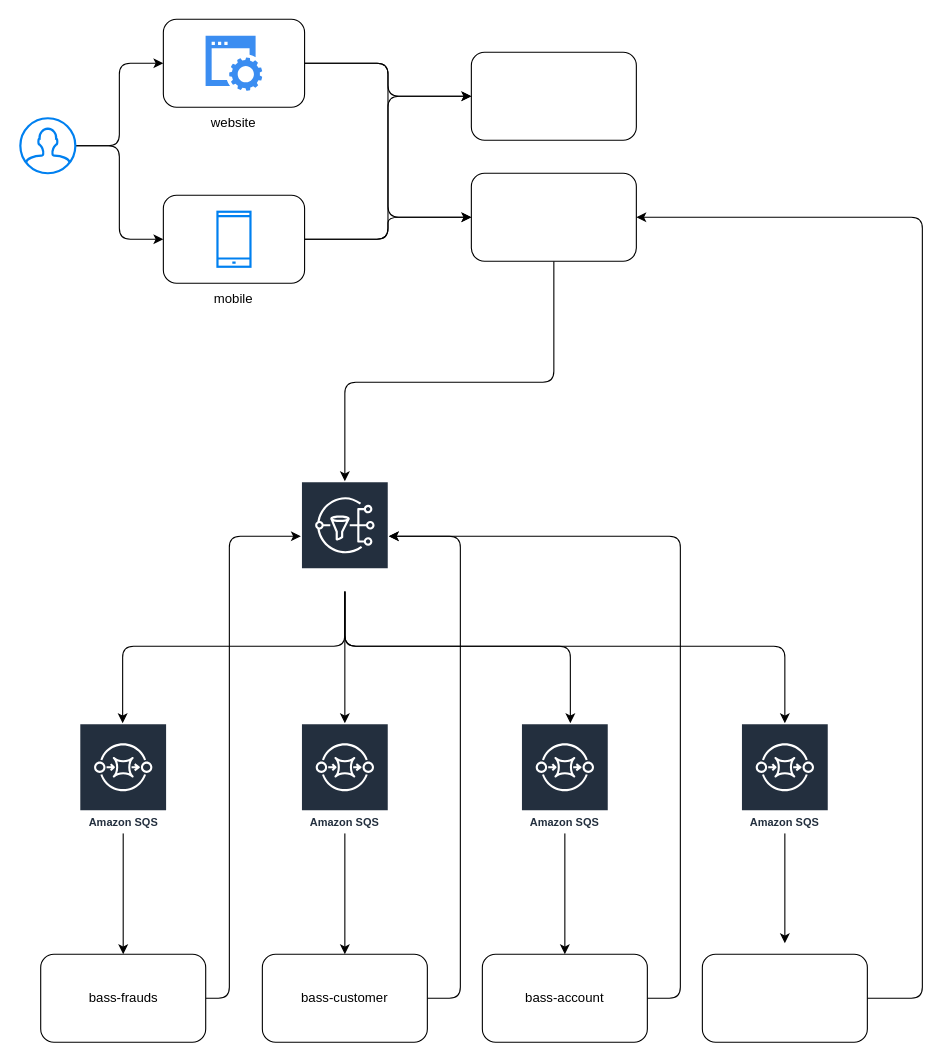
The diagram is 950 pixels wide and 1062 high, and some of its shapes have lost their labels. The shapes that lost their labels are listed below. From the top down, each one's box as (x1, y1, x2, y2) in pixels, then its label:
(470, 51, 636, 140): bass-auth
(19, 117, 76, 174): user
(470, 172, 636, 261): bass-onboarding
(300, 480, 389, 591): Amazon SNS
(701, 953, 867, 1042): bass-webhook
